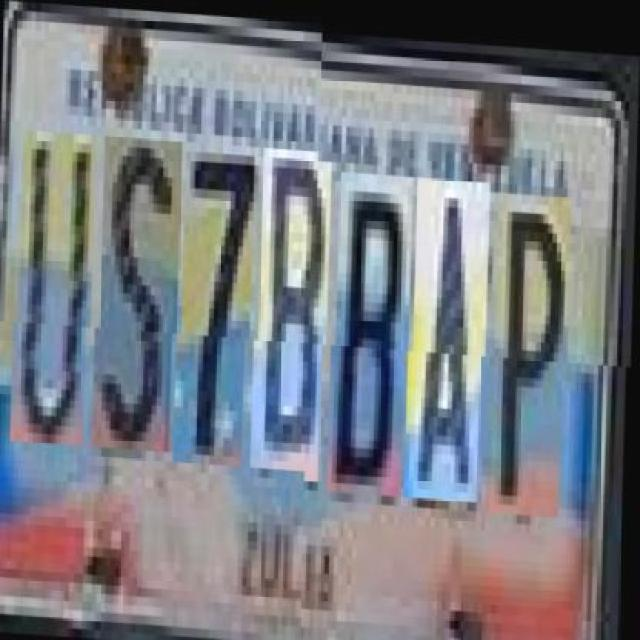7: (180, 148, 255, 472)
a: (412, 171, 492, 495)
b: (334, 166, 414, 491), (258, 152, 333, 477)
p: (492, 185, 572, 509)
s: (99, 143, 183, 459)
u: (16, 138, 96, 454)
